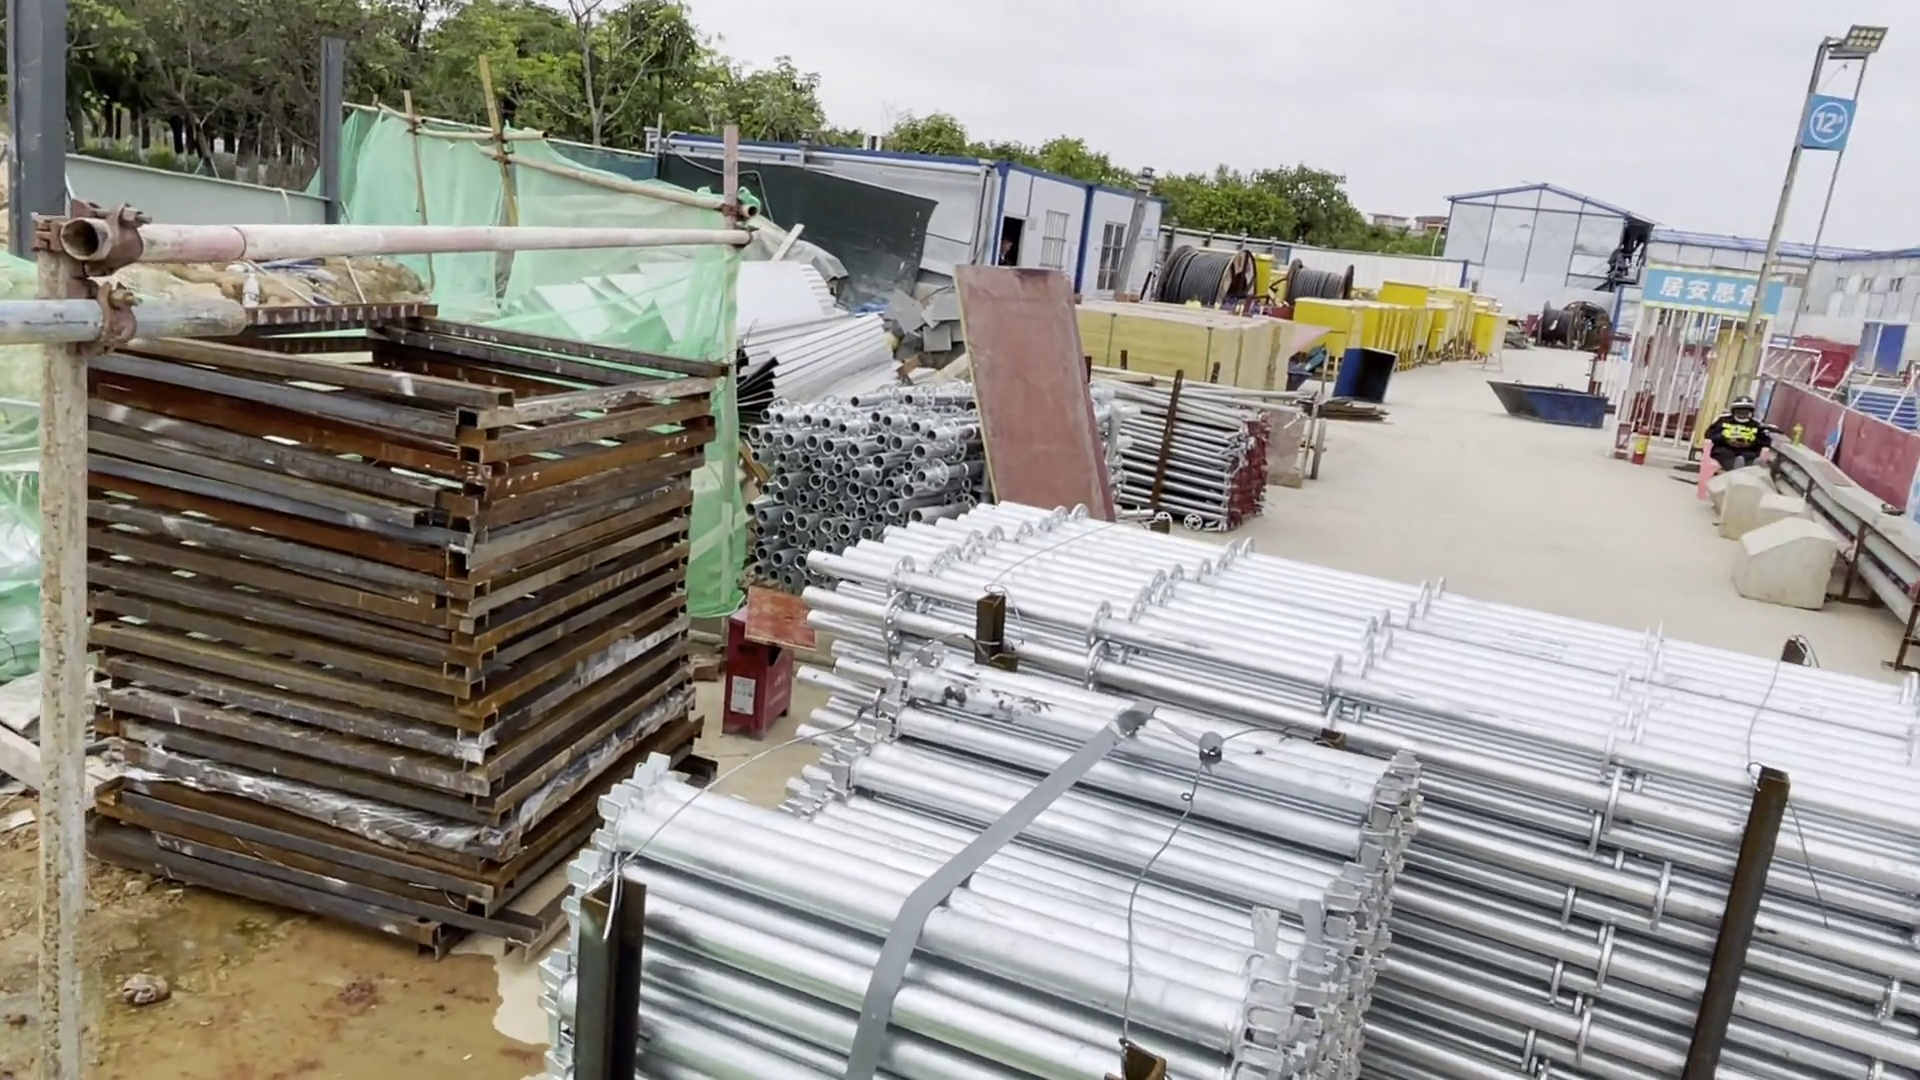scaffold: (786, 477, 1902, 1080), (575, 649, 1354, 1080), (745, 385, 976, 533), (1102, 385, 1263, 529)
